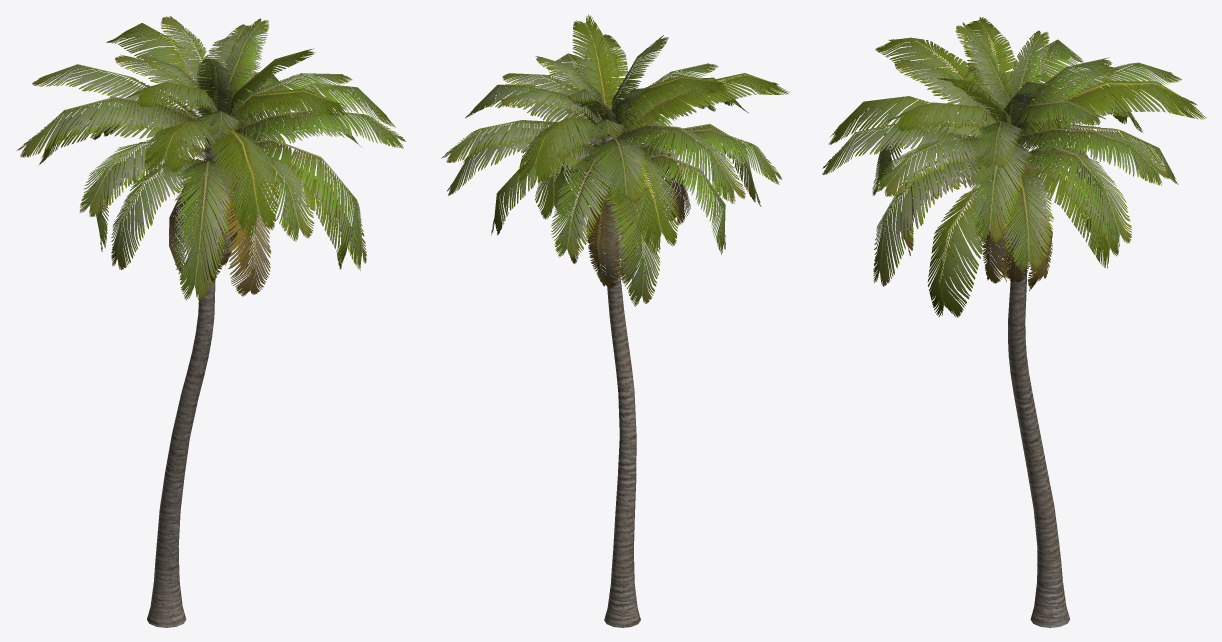
Rendered from palm.glb.
3 views of the same model, side by side, from view 1: azimuth 30°, elevation 25°; view 2: azimuth 150°, elevation 25°; view 3: azimuth 270°, elevation 25° (orthographic). The views are drawn at different scales.
Visible parts, largest first — view 1: hd_palmTreeLeaf_a_Albedo.png__, hd_palmTreeLeaf_b_Albedo.png__, hd_palmTreeBark_a_Albedo.png__, hd_palmTreeLeafDry_a_Albedo.png__; view 2: hd_palmTreeLeaf_a_Albedo.png__, hd_palmTreeLeaf_b_Albedo.png__, hd_palmTreeBark_a_Albedo.png__, hd_palmTreeLeafDry_a_Albedo.png__; view 3: hd_palmTreeLeaf_a_Albedo.png__, hd_palmTreeLeaf_b_Albedo.png__, hd_palmTreeBark_a_Albedo.png__, hd_palmTreeLeafDry_a_Albedo.png__.
Boxes of the visible parts, x1,y1,x2,y2 form: hd_palmTreeLeaf_a_Albedo.png__: [16, 16, 406, 300]; hd_palmTreeLeaf_b_Albedo.png__: [39, 23, 351, 269]; hd_palmTreeBark_a_Albedo.png__: [147, 129, 226, 627]; hd_palmTreeLeafDry_a_Albedo.png__: [169, 155, 271, 296]; hd_palmTreeLeaf_a_Albedo.png__: [441, 35, 781, 306]; hd_palmTreeLeaf_b_Albedo.png__: [491, 14, 789, 254]; hd_palmTreeBark_a_Albedo.png__: [600, 136, 640, 627]; hd_palmTreeLeafDry_a_Albedo.png__: [570, 146, 690, 287]; hd_palmTreeLeaf_a_Albedo.png__: [822, 22, 1181, 286]; hd_palmTreeLeaf_b_Albedo.png__: [829, 17, 1206, 317]; hd_palmTreeBark_a_Albedo.png__: [1004, 139, 1069, 627]; hd_palmTreeLeafDry_a_Albedo.png__: [900, 159, 1052, 290].
Size of the model in its own units: 5.97 by 10.01 by 5.89.
Materials: 4 (4 with a texture image).
